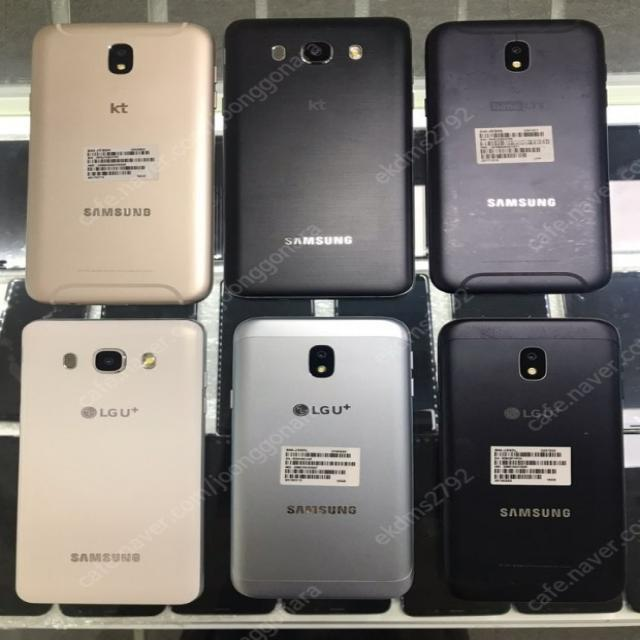phone: (13, 319, 200, 604), (427, 20, 614, 292), (228, 19, 410, 296), (233, 320, 412, 600), (29, 22, 206, 305), (441, 322, 624, 592)
